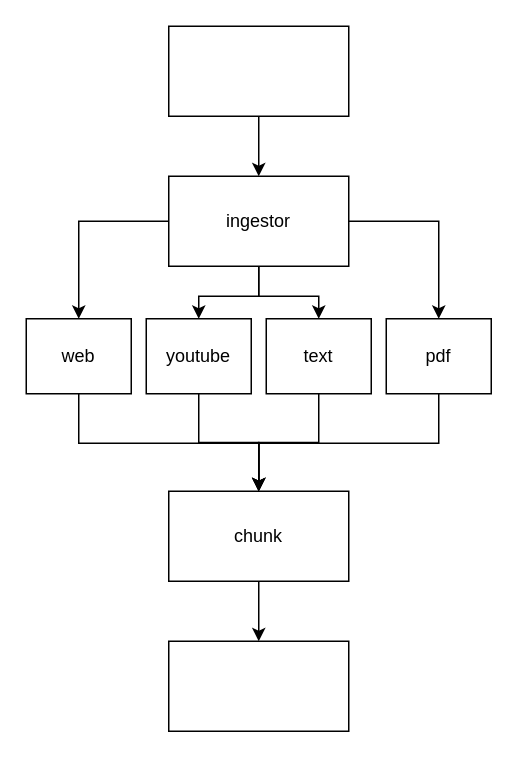
Image size: 518x758. Some labels were removed from this diagram. The shapes that lost their labels are listed below. From the top down, each one's centre as x and y in pixels, then its label:
At [258,70]: "manifest.json (sources)".
At [258,685]: "embed".
